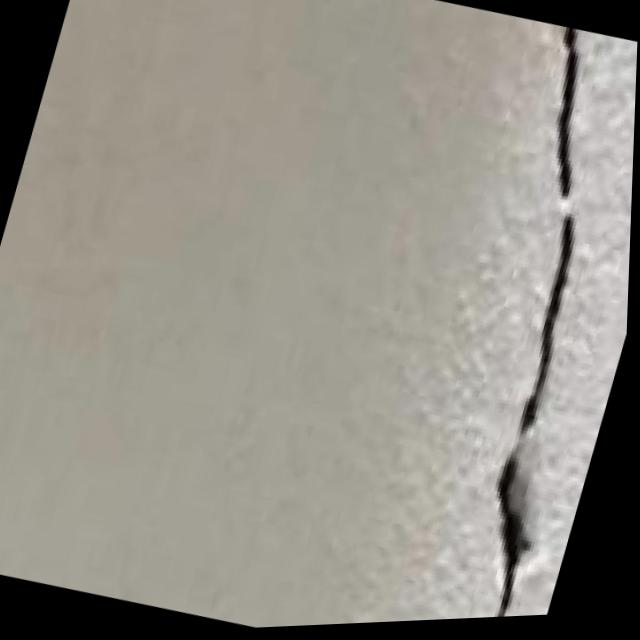Crack: (361, 21, 639, 627)
